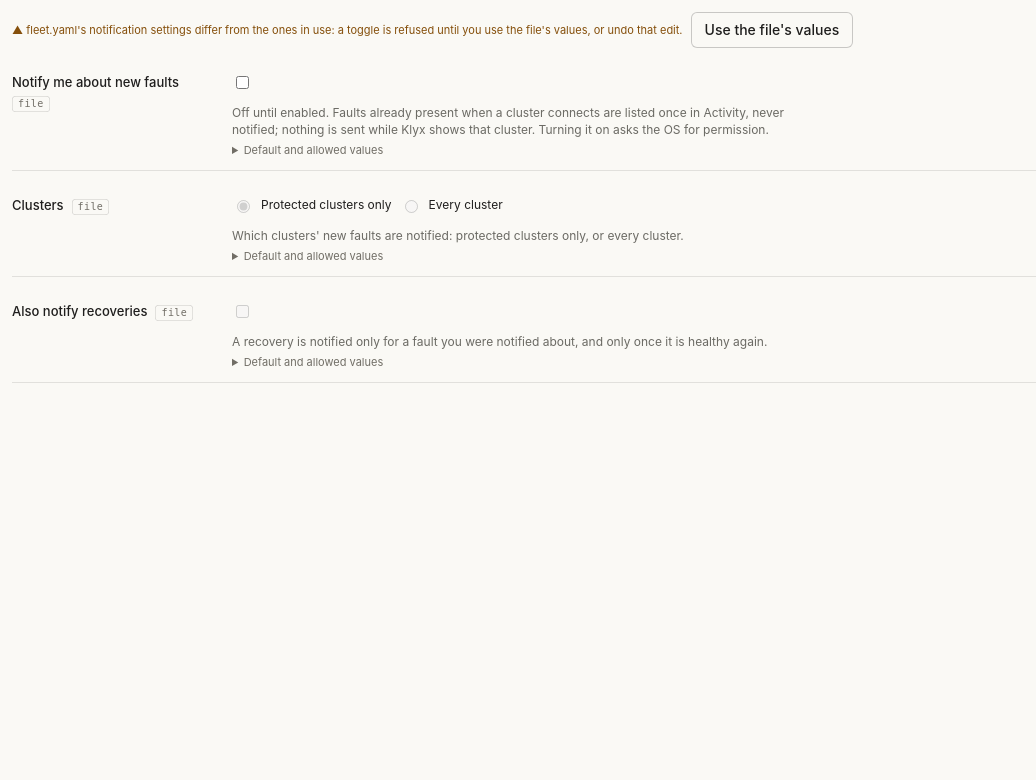
Test: NotificationSettingsPanel › a replacement plan is shown unapplied, keyed by its own digest
Click the button "Use the file's values" at (772, 30), box [690,12,853,48]
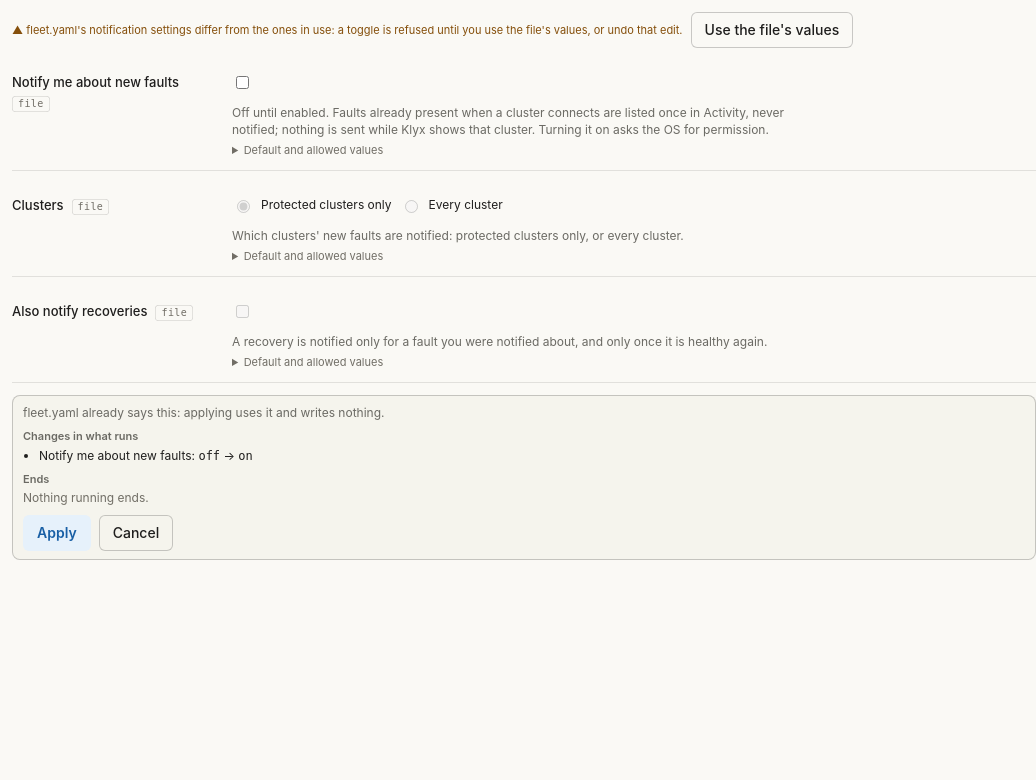
Click the button "Apply" at (57, 533), box [23,515,91,551]
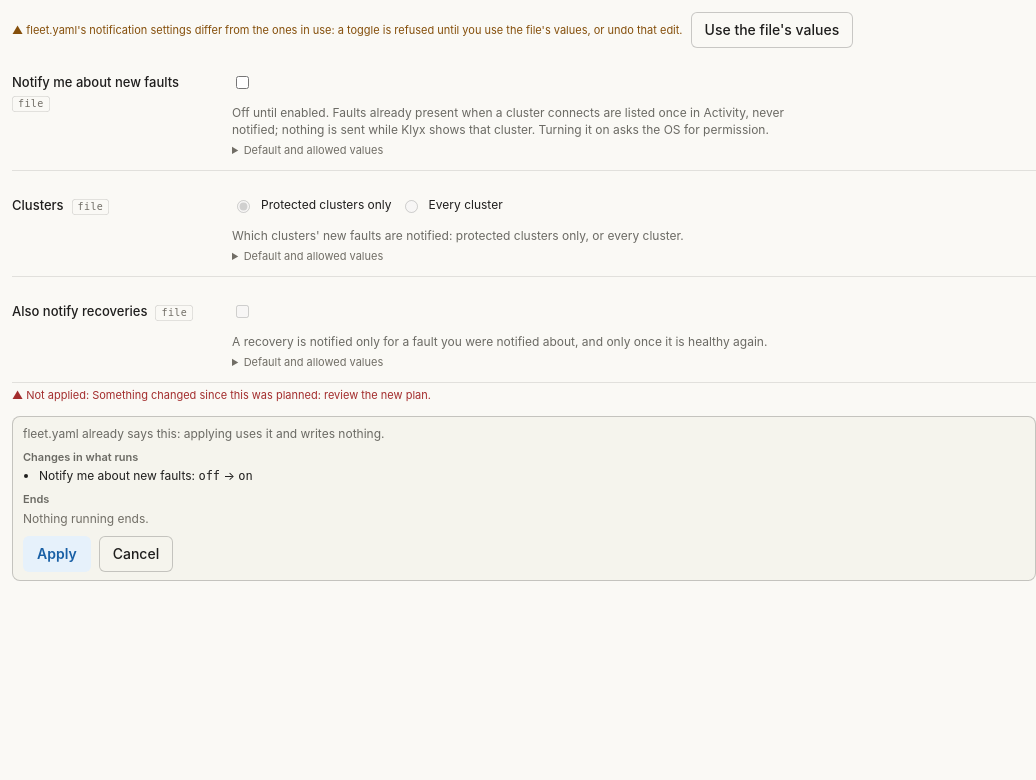
Expected: the message shows "Something changed", [26,388,431,402]
